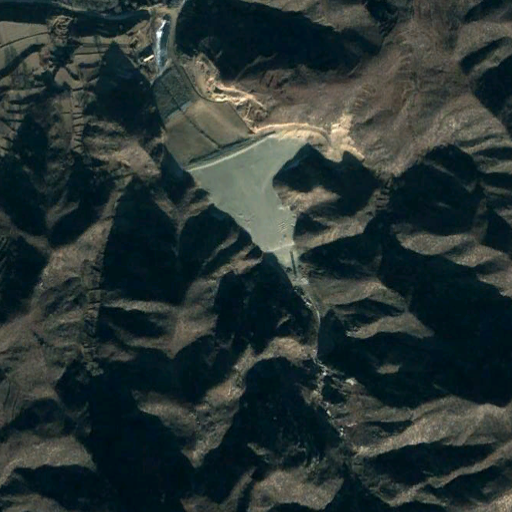tp: (153, 68, 303, 268)
